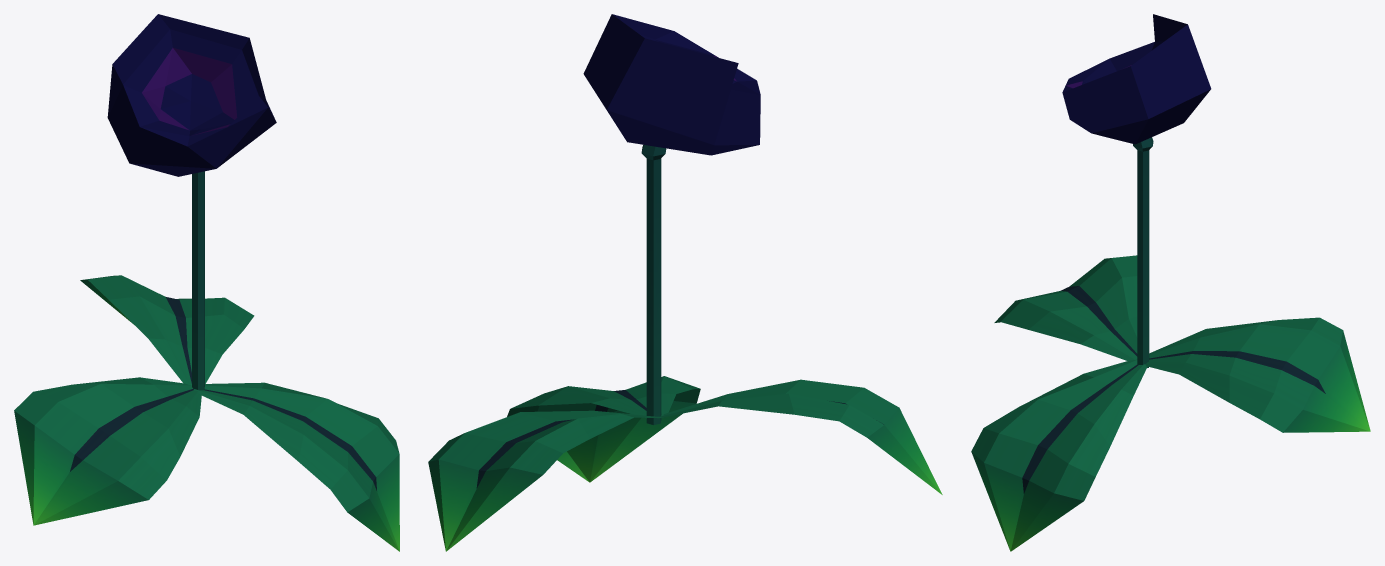
File: Flowers_NavyGuy.fbx
3 renders of one model, left to right at view 1: azimuth 30°, elevation 25°; view 2: azimuth 150°, elevation 25°; view 3: azimuth 270°, elevation 25°, orthographic. The views are drawn at different scales.
Parts seen in each view (by area): view 1: Plane.018; view 2: Plane.018; view 3: Plane.018.
Boxes of the visible parts, x1,y1,x2,y2 form: Plane.018: (14, 14, 399, 551); Plane.018: (428, 14, 942, 551); Plane.018: (971, 14, 1370, 551).
Bounding box in the file's own units: 38.75 × 49.38 × 38.67.
